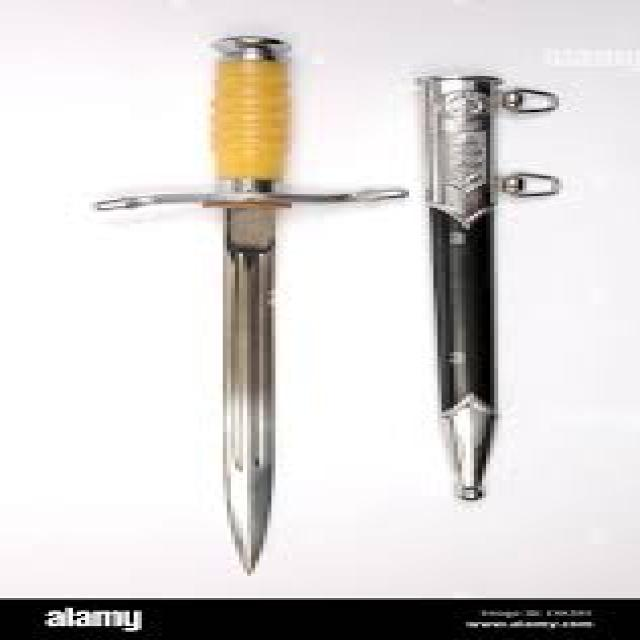Gun: (92, 11, 381, 586)
